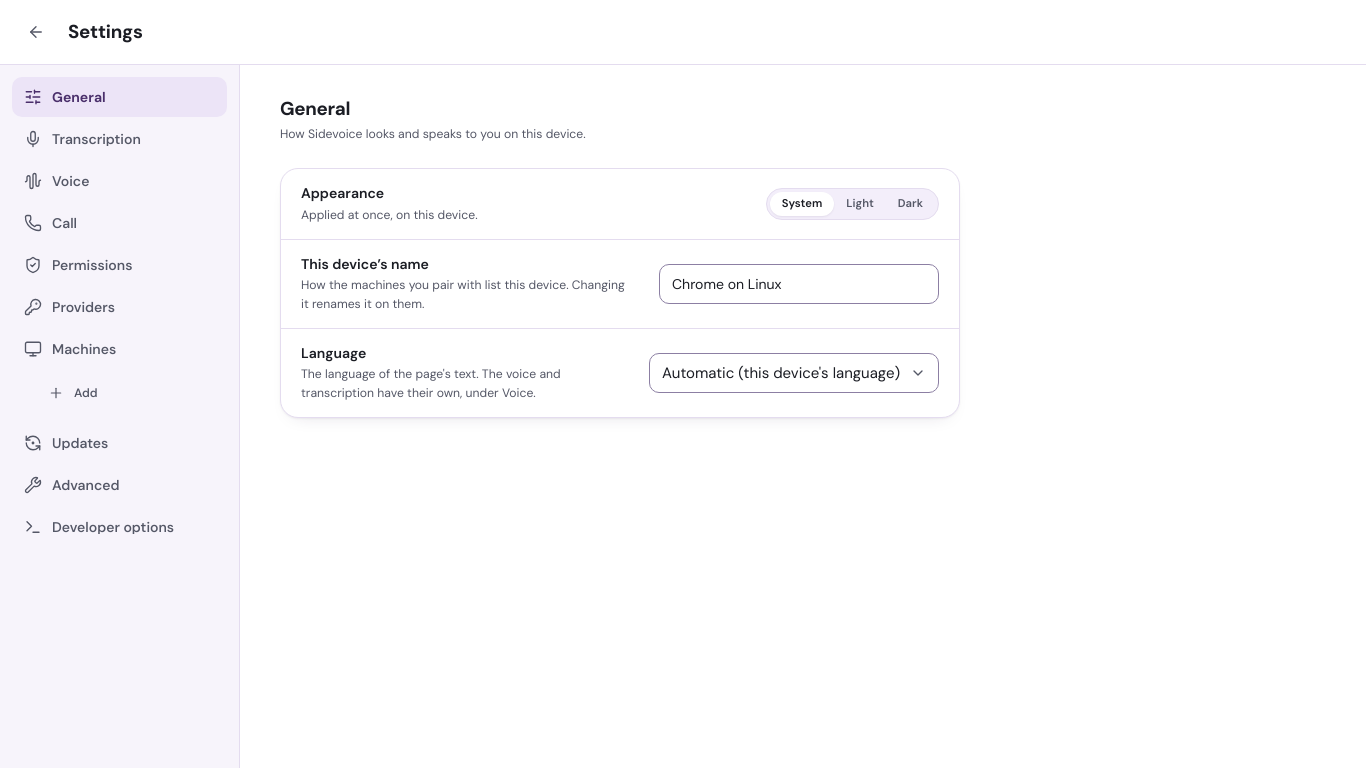
Scenario: with developer mode on in a nightly, Developer options is below Advanced and holds the turn tuning, which Advanced no longer has
This screenshot has width=1366, height=768.
Click the button "Developer options": (120, 527) [12,507,227,547]
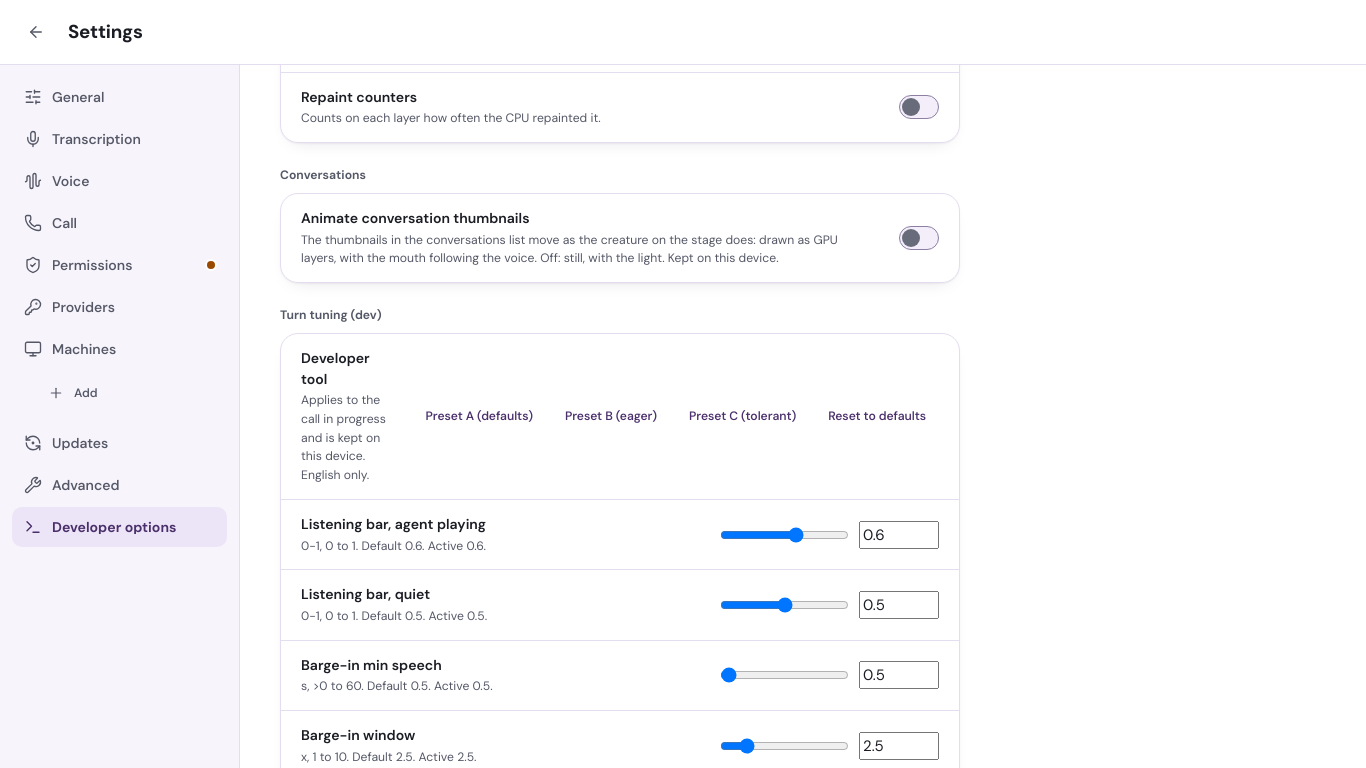
Check: the switch named "Repaint counters" is shown, box [899,95,939,119]
Check: the button "Reset to defaults" is shown, box [815,400,939,432]
